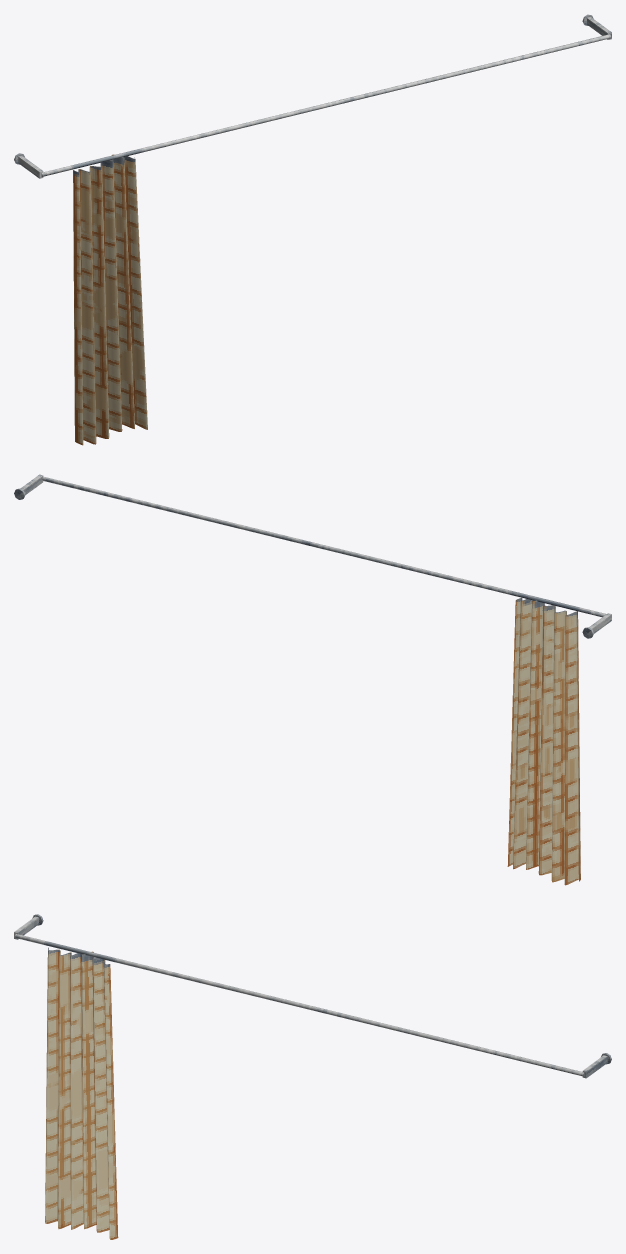
File: gk_curtain.glb
3 renders of one model, top to bottom at view 1: azimuth 30°, elevation 25°; view 2: azimuth 150°, elevation 25°; view 3: azimuth 330°, elevation 25°, orthographic.
Parts seen in each view (by area): view 1: mesh; view 2: mesh; view 3: mesh.
Part boxes in pixels (<box>): mesh: <box>14,14,611,445</box>; mesh: <box>14,474,611,885</box>; mesh: <box>14,914,611,1239</box>.
Bounding box in the file's own units: 1.79 × 0.8359 × 0.152.
Materials: 1 (1 with a texture image).
